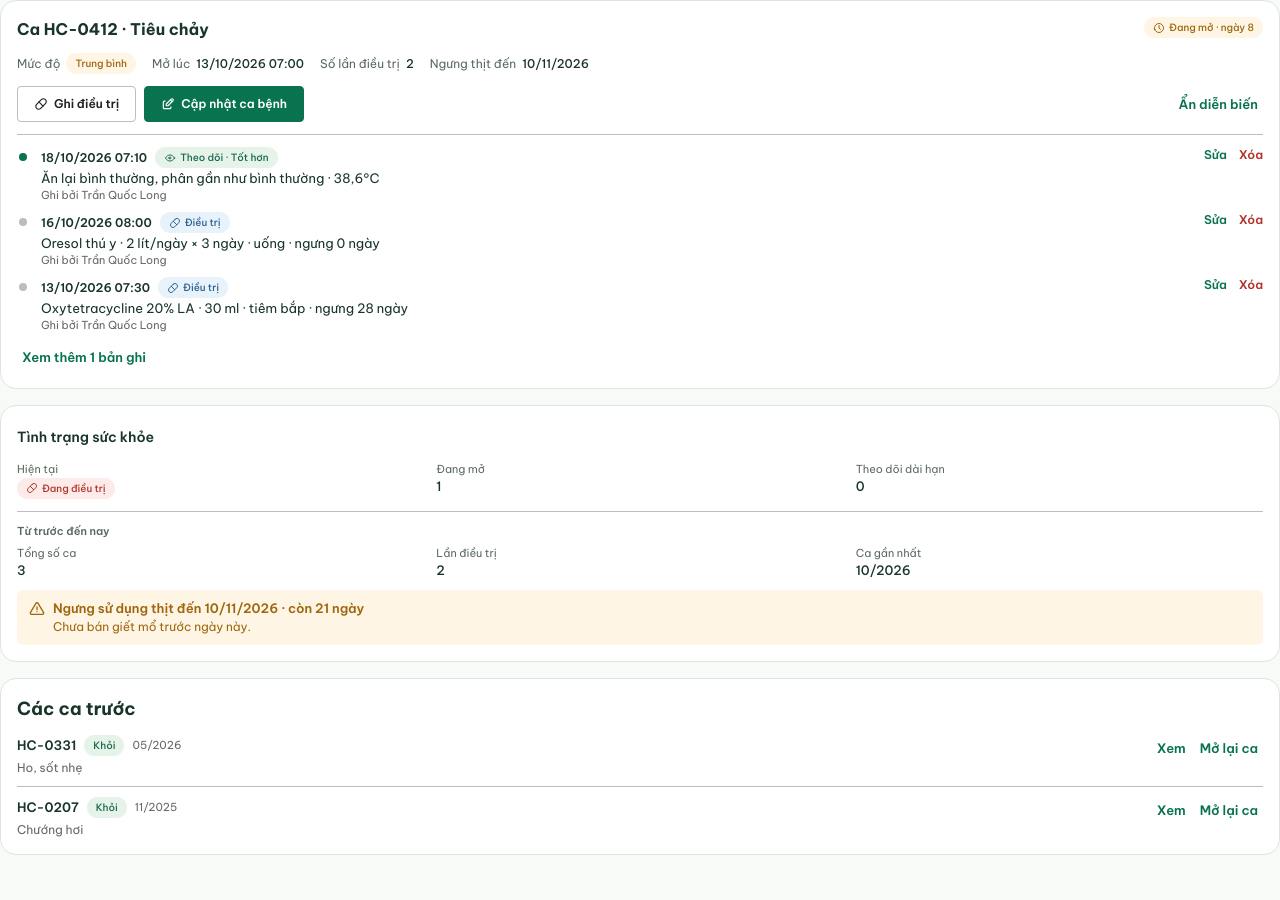
Scenario: tab Sức khỏe trong hồ sơ bò › ca đã đóng có nút Xem: tóm tắt, thuốc đã dùng và toàn bộ diễn biến
The width and height of the screenshot is (1280, 900).
Click the button with aria-label "Xem ca HC-0331": (1171, 749) left=1152, top=735, right=1191, bottom=762
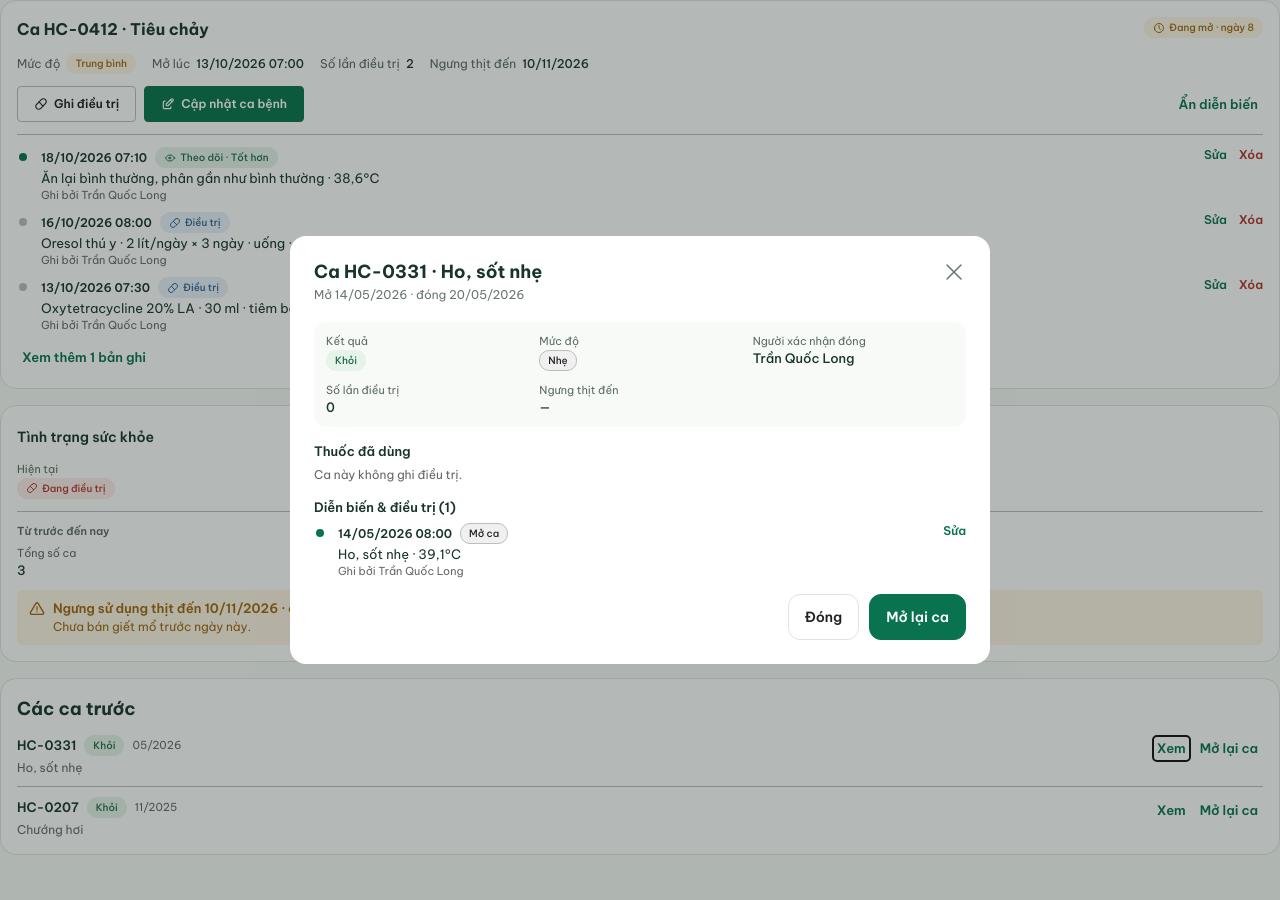
Expected: the heading "Thuốc đã dùng" is shown, left=314, top=443, right=411, bottom=459
Expected: the text "Khỏi" is shown, left=326, top=350, right=366, bottom=371
Expected: the heading "Diễn biến & điều trị (1)" is shown, left=314, top=499, right=456, bottom=515
